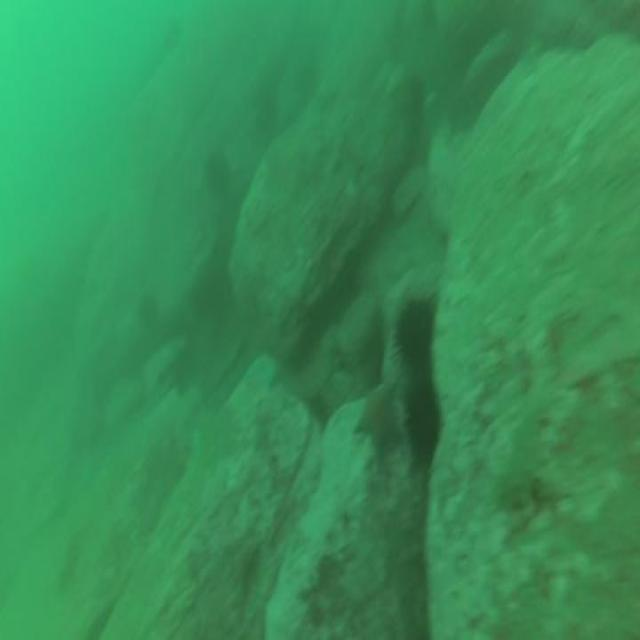echinus: (390, 296, 438, 372), (401, 387, 442, 463), (202, 147, 234, 204), (134, 288, 161, 332), (295, 65, 319, 107), (161, 17, 181, 54)
starfish: (354, 378, 402, 466)
